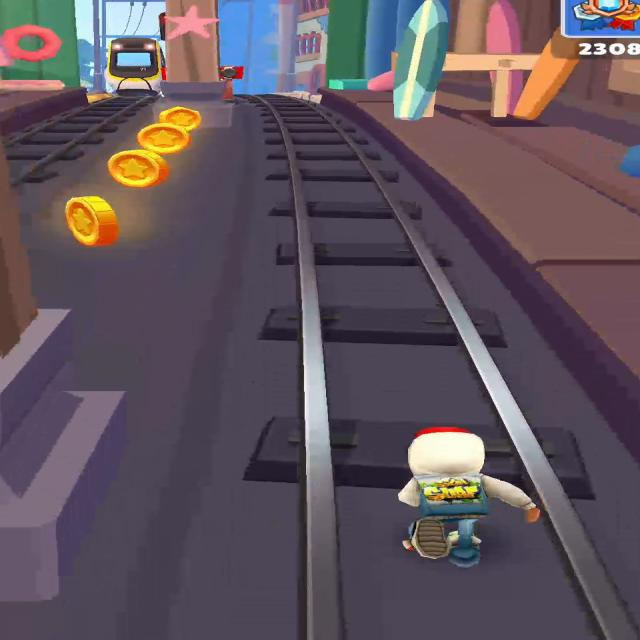block pillar: (0, 152, 123, 601), (154, 0, 232, 128)
blocker: (219, 65, 243, 101)
train: (104, 38, 164, 89)
